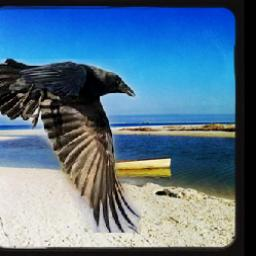Crow: (0, 59, 140, 233)
